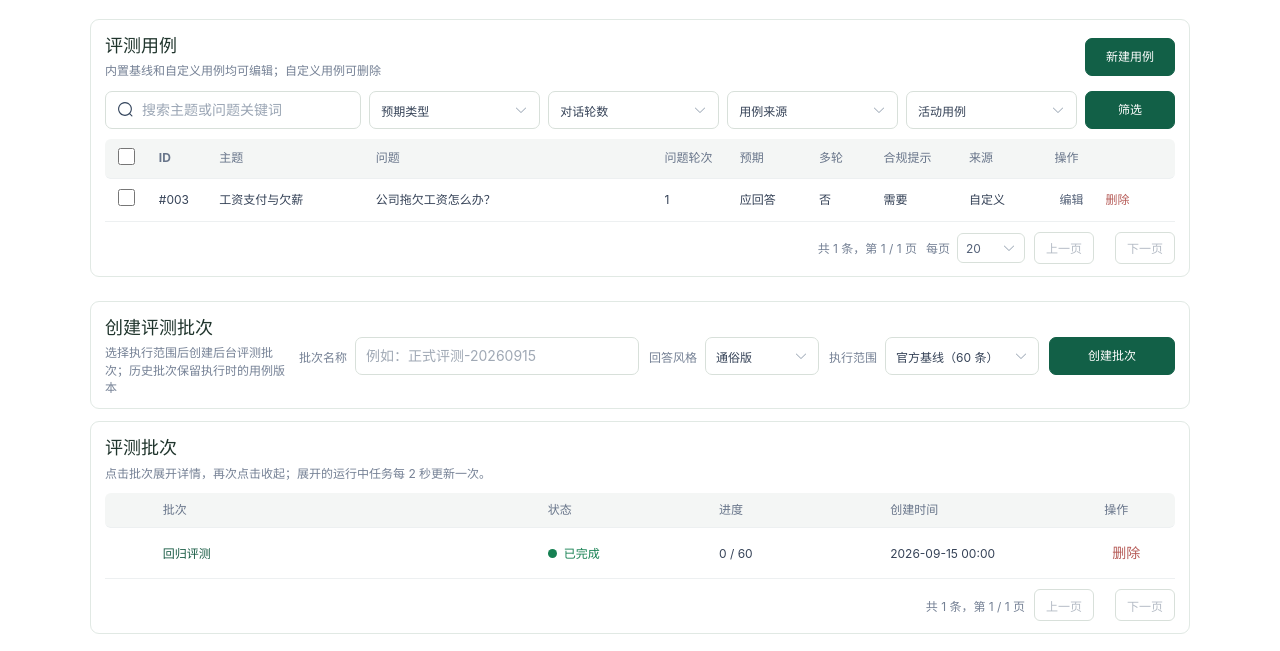
it: EvaluationView › explains metrics that have no applicable cases instead of presenting them as failed calculations
Click the button with class "evaluation-link". click: (187, 553)
box: [163,545,211,562]
(page scrolled)
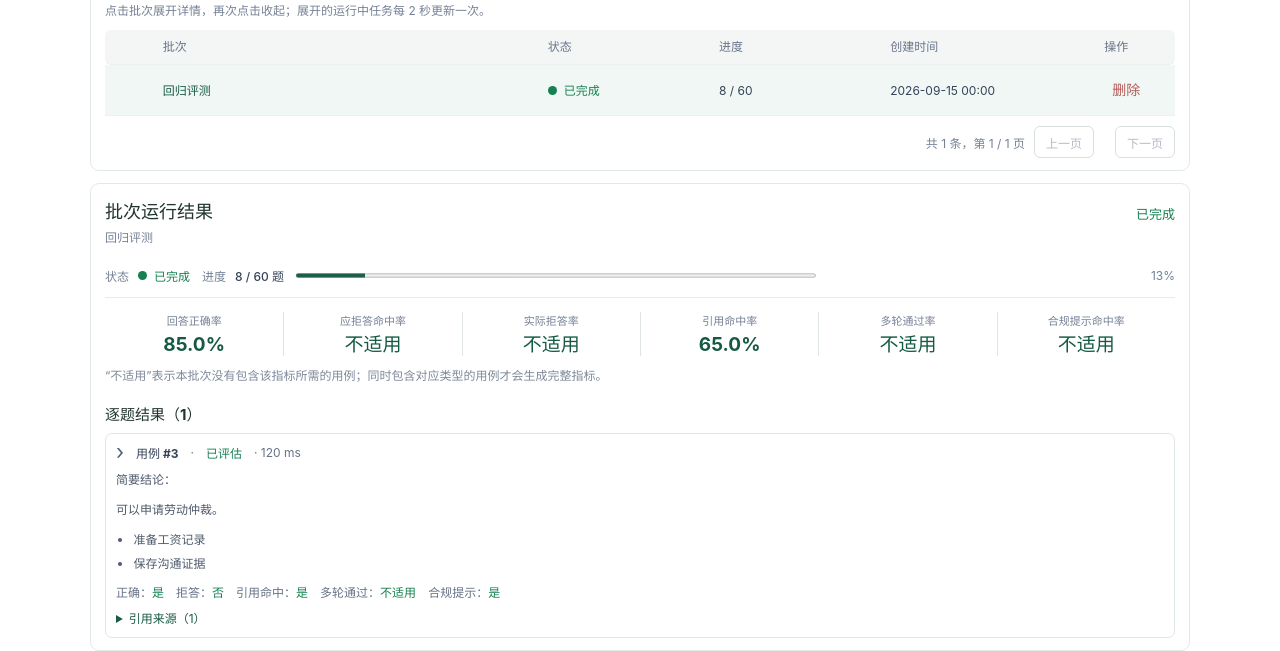
Now the element with class "evaluation-metrics" shows "85.0%", box [163,333,225,356]
Now the element with class "evaluation-metrics" shows "65.0%", box [699,333,760,356]
Now the element with class "evaluation-metrics" shows "不适用", box [344,333,402,356]
